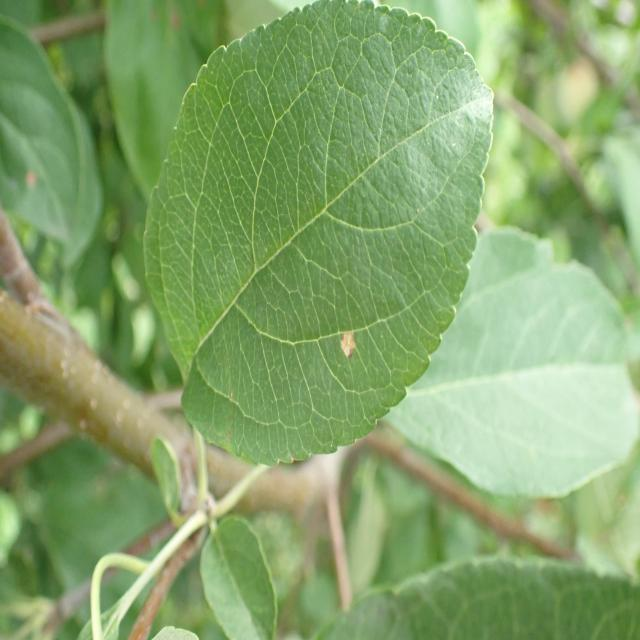Black Rot: (328, 304, 365, 398)
